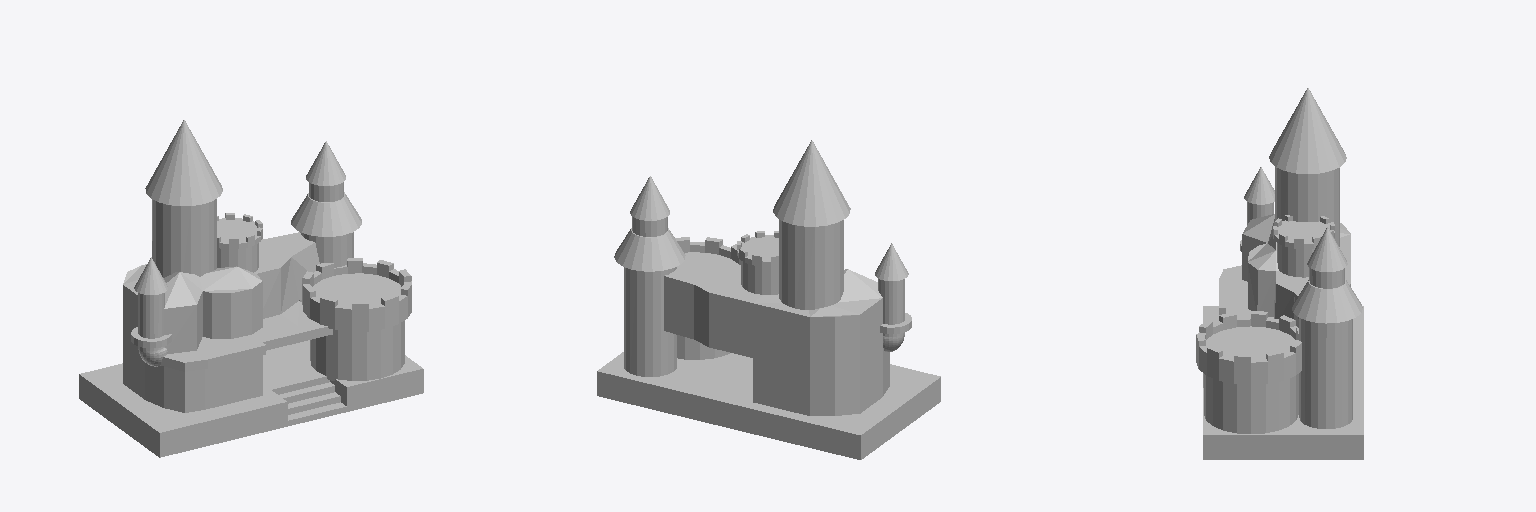
The model's file is redone fish castel.obj.
3 views of the same model, side by side, from view 1: azimuth 30°, elevation 25°; view 2: azimuth 150°, elevation 25°; view 3: azimuth 270°, elevation 25° (orthographic).
Visible parts, largest first — view 1: pCube1 pCube2, pCube1, pCube1 pCube2 pCylinder1, pCone9, pCone8, pCone11, pCube1 pCube2 pCylinder4; view 2: pCube1 pCube2, pCube1, pCone9, pCone8, pCone11, pCube1 pCube2 pCylinder4, pCube1 pCube2 pCylinder1; view 3: pCube1 pCube2 pCylinder1, pCone8, pCone9, pCube1, pCube1 pCube2, pCube1 pCube2 pCylinder4, pCone11.
Part boxes in pixels (x1,y1,x2,y2): pCube1 pCube2: (123, 232, 332, 412); pCube1: (79, 340, 423, 457); pCube1 pCube2 pCylinder1: (302, 258, 411, 380); pCone9: (145, 120, 222, 277); pCone8: (291, 141, 361, 267); pCone11: (131, 257, 171, 366); pCube1 pCube2 pCylinder4: (217, 213, 262, 272); pCube1 pCube2: (664, 265, 889, 415); pCube1: (597, 352, 940, 459); pCone9: (773, 140, 850, 309); pCone8: (614, 176, 685, 376); pCone11: (875, 243, 911, 351); pCube1 pCube2 pCylinder4: (737, 231, 778, 294); pCube1 pCube2 pCylinder1: (675, 237, 740, 359); pCube1 pCube2 pCylinder1: (1196, 311, 1301, 433); pCone8: (1292, 227, 1362, 428); pCone9: (1269, 88, 1346, 246); pCube1: (1203, 306, 1363, 459); pCube1 pCube2: (1219, 214, 1350, 327); pCube1 pCube2 pCylinder4: (1273, 215, 1334, 277); pCone11: (1240, 167, 1274, 251).
Size of the model in its own units: 11.55 by 11.52 by 6.23.